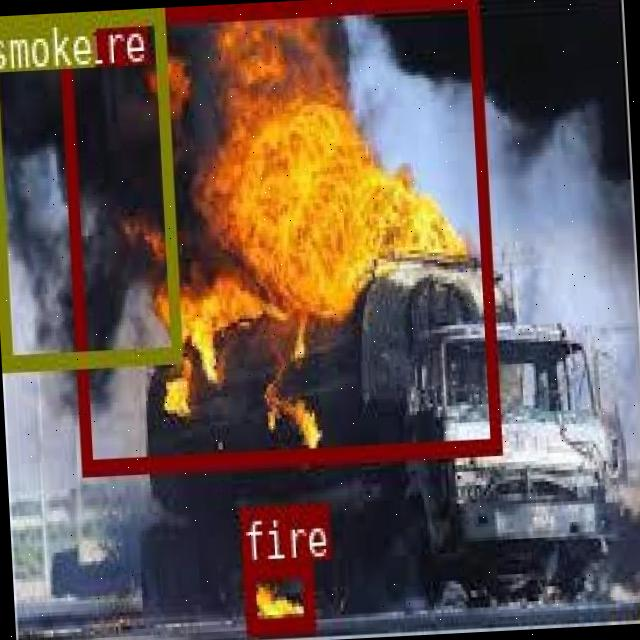fire: (56, 0, 501, 474), (242, 558, 314, 633)
smoke: (0, 8, 181, 370)
